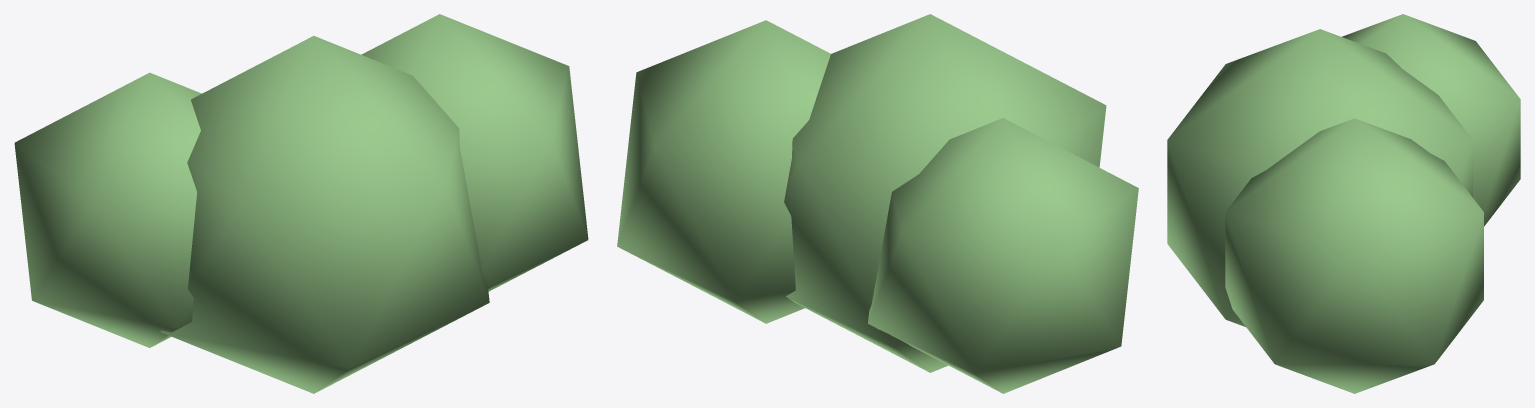
Rendered from bush.glb.
3 renders of one model, left to right at view 1: azimuth 30°, elevation 25°; view 2: azimuth 150°, elevation 25°; view 3: azimuth 270°, elevation 25°, orthographic. The views are drawn at different scales.
Parts seen in each view (by area): view 1: bush; view 2: bush; view 3: bush.
Part boxes in pixels (bbox=[...]): bush: bbox=[14, 14, 588, 393]; bush: bbox=[617, 14, 1138, 393]; bush: bbox=[1167, 14, 1520, 393].
Size of the model in its own units: 0.7757 by 0.52 by 0.5113.
